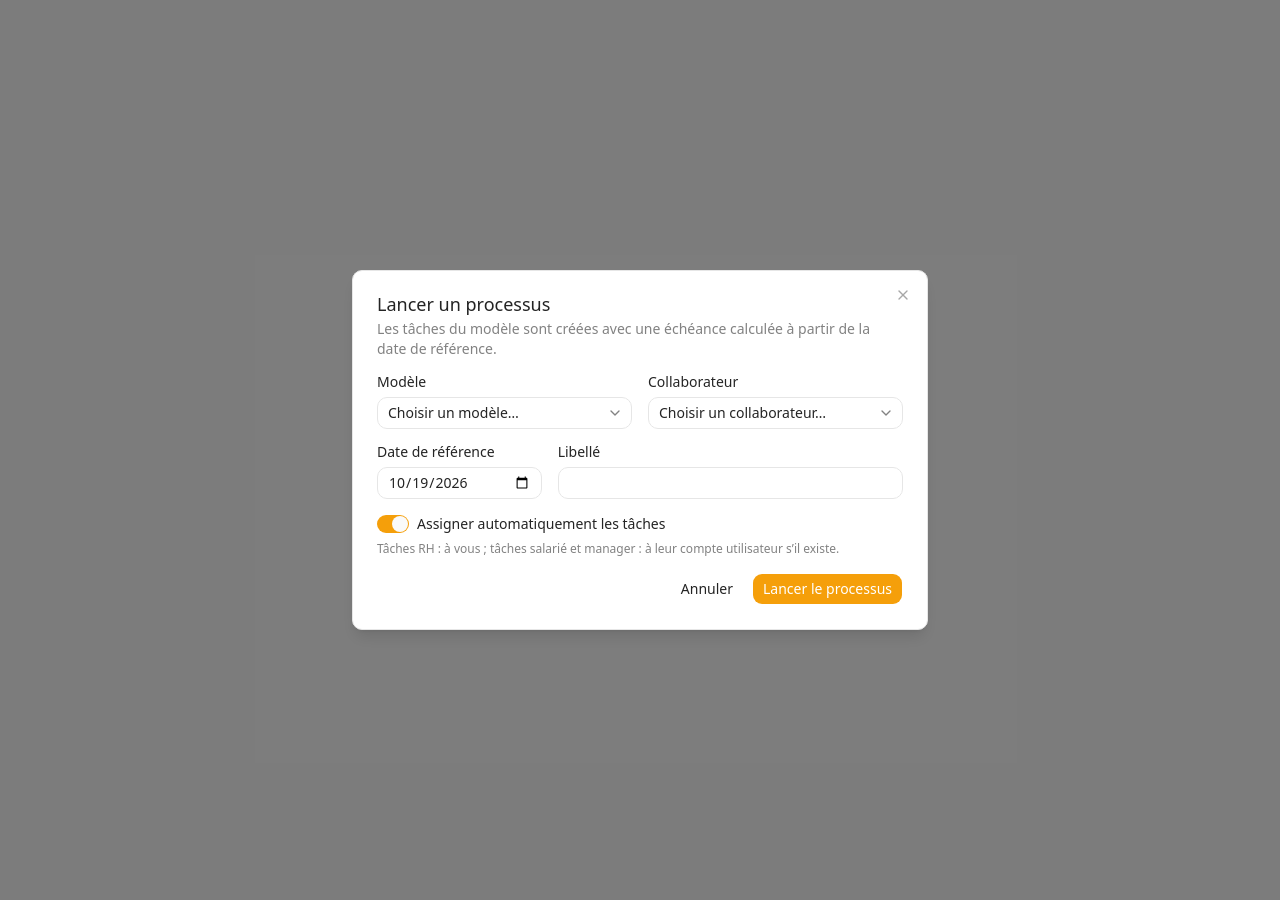
Test: LancerProcessusDialog › exige un modèle et un collaborateur
The width and height of the screenshot is (1280, 900).
expect the date field labelled "Date de référence" holds "2026-10-19": met, box [377,467,542,499]
Click the button "Lancer le processus". click: {"x": 828, "y": 589}
box: [752,573,903,605]
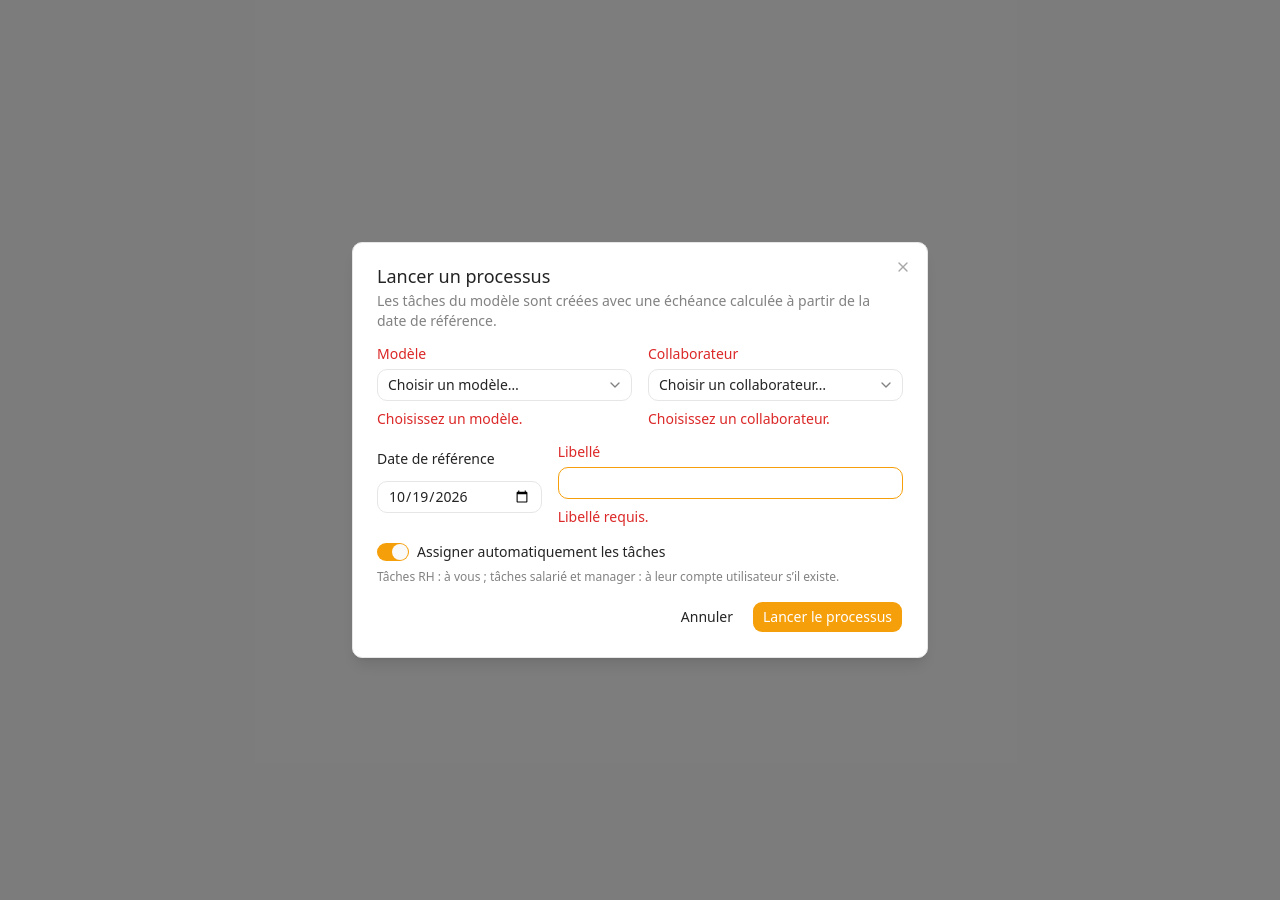
expect the text "Choisissez un modèle." is shown: met, box [377,409,523,428]
expect the text "Choisissez un collaborateur." is shown: met, box [648,409,830,428]
